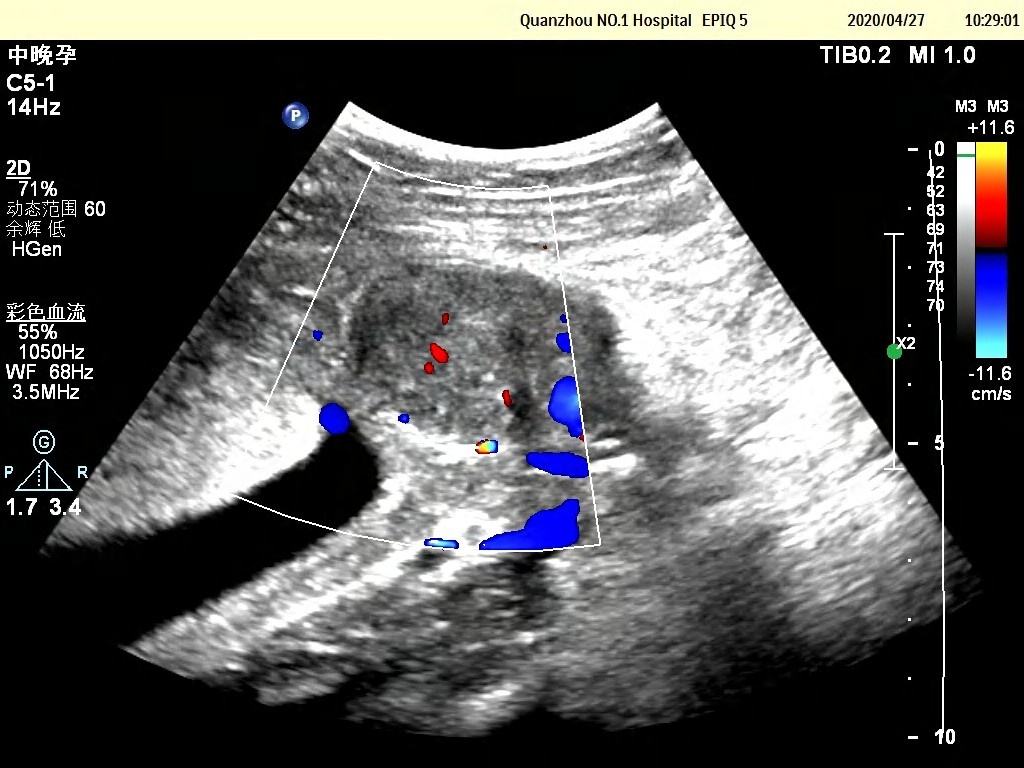肌瘤: (352, 277, 533, 445)
